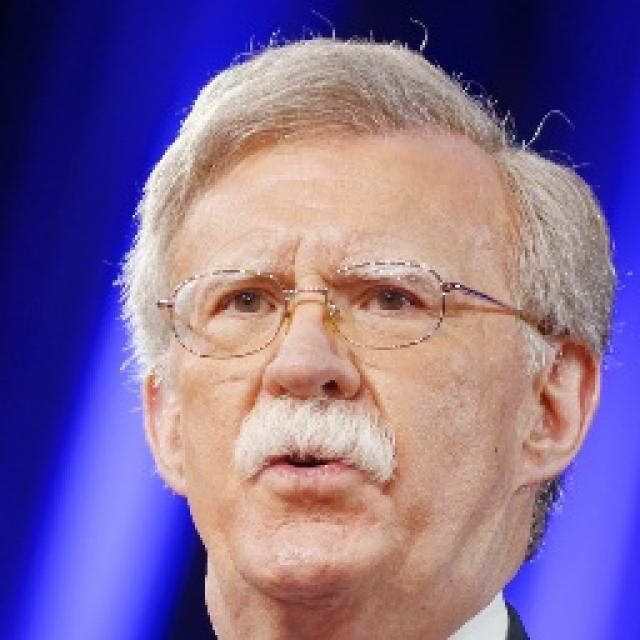earlobe: (516, 338, 605, 484), (142, 368, 188, 500)
